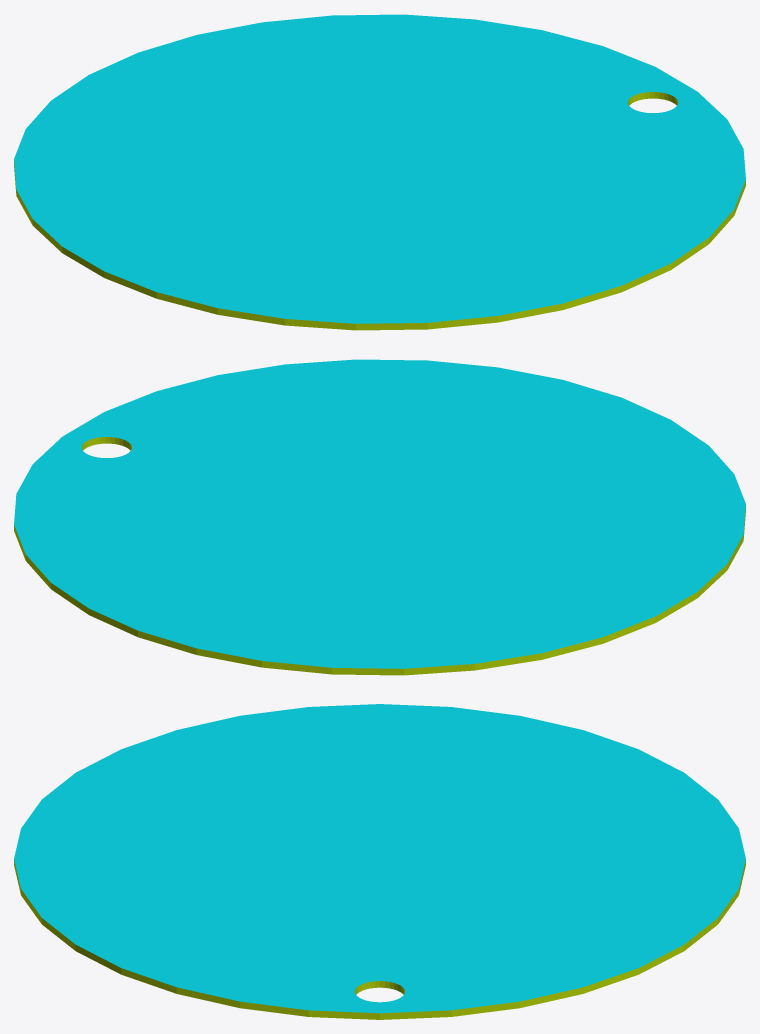
The model's file is sequin4.fbx.
3 views of the same model, one above another, from view 1: azimuth 30°, elevation 25°; view 2: azimuth 150°, elevation 25°; view 3: azimuth 270°, elevation 25° (orthographic).
Visible parts, largest first — view 1: Cylinder; view 2: Cylinder; view 3: Cylinder.
Boxes of the visible parts, x1,y1,x2,y2 form: Cylinder: (14,14,745,330); Cylinder: (14,359,745,675); Cylinder: (14,704,745,1019).
Bounding box in the file's own units: 200 × 2 × 200.
